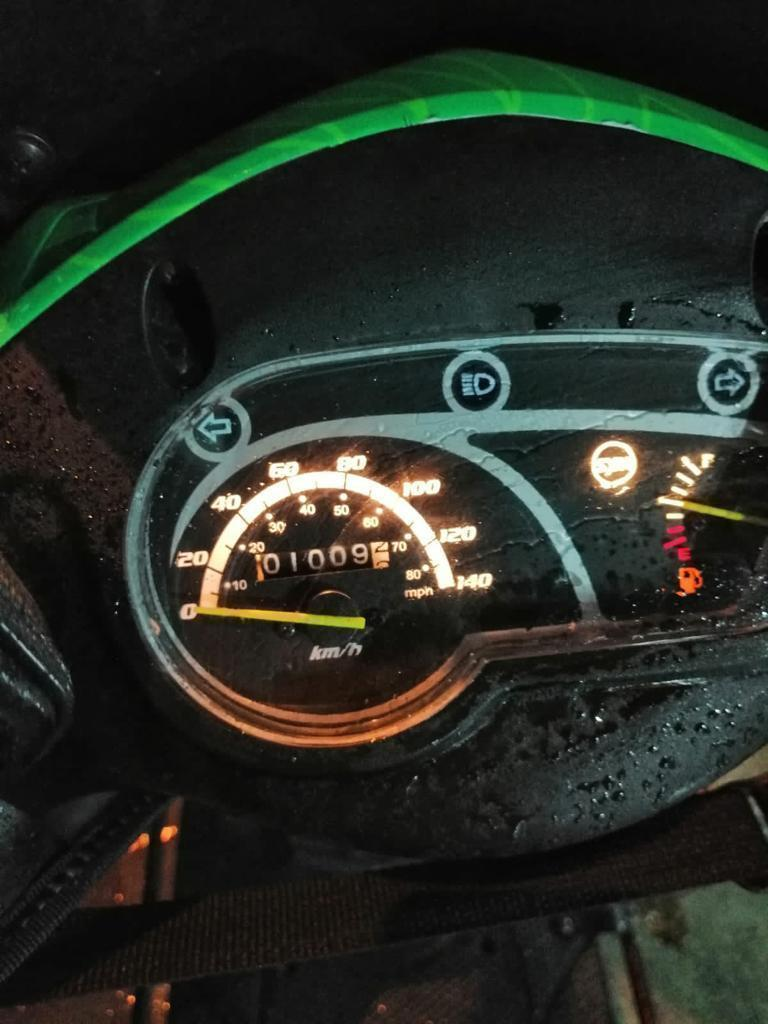0: (305, 546, 325, 571), (328, 543, 347, 569), (262, 552, 282, 575), (257, 540, 266, 553)
1: (288, 545, 299, 576)
2: (371, 539, 389, 559)
9: (351, 542, 369, 567)
odometer: (255, 539, 392, 584)
